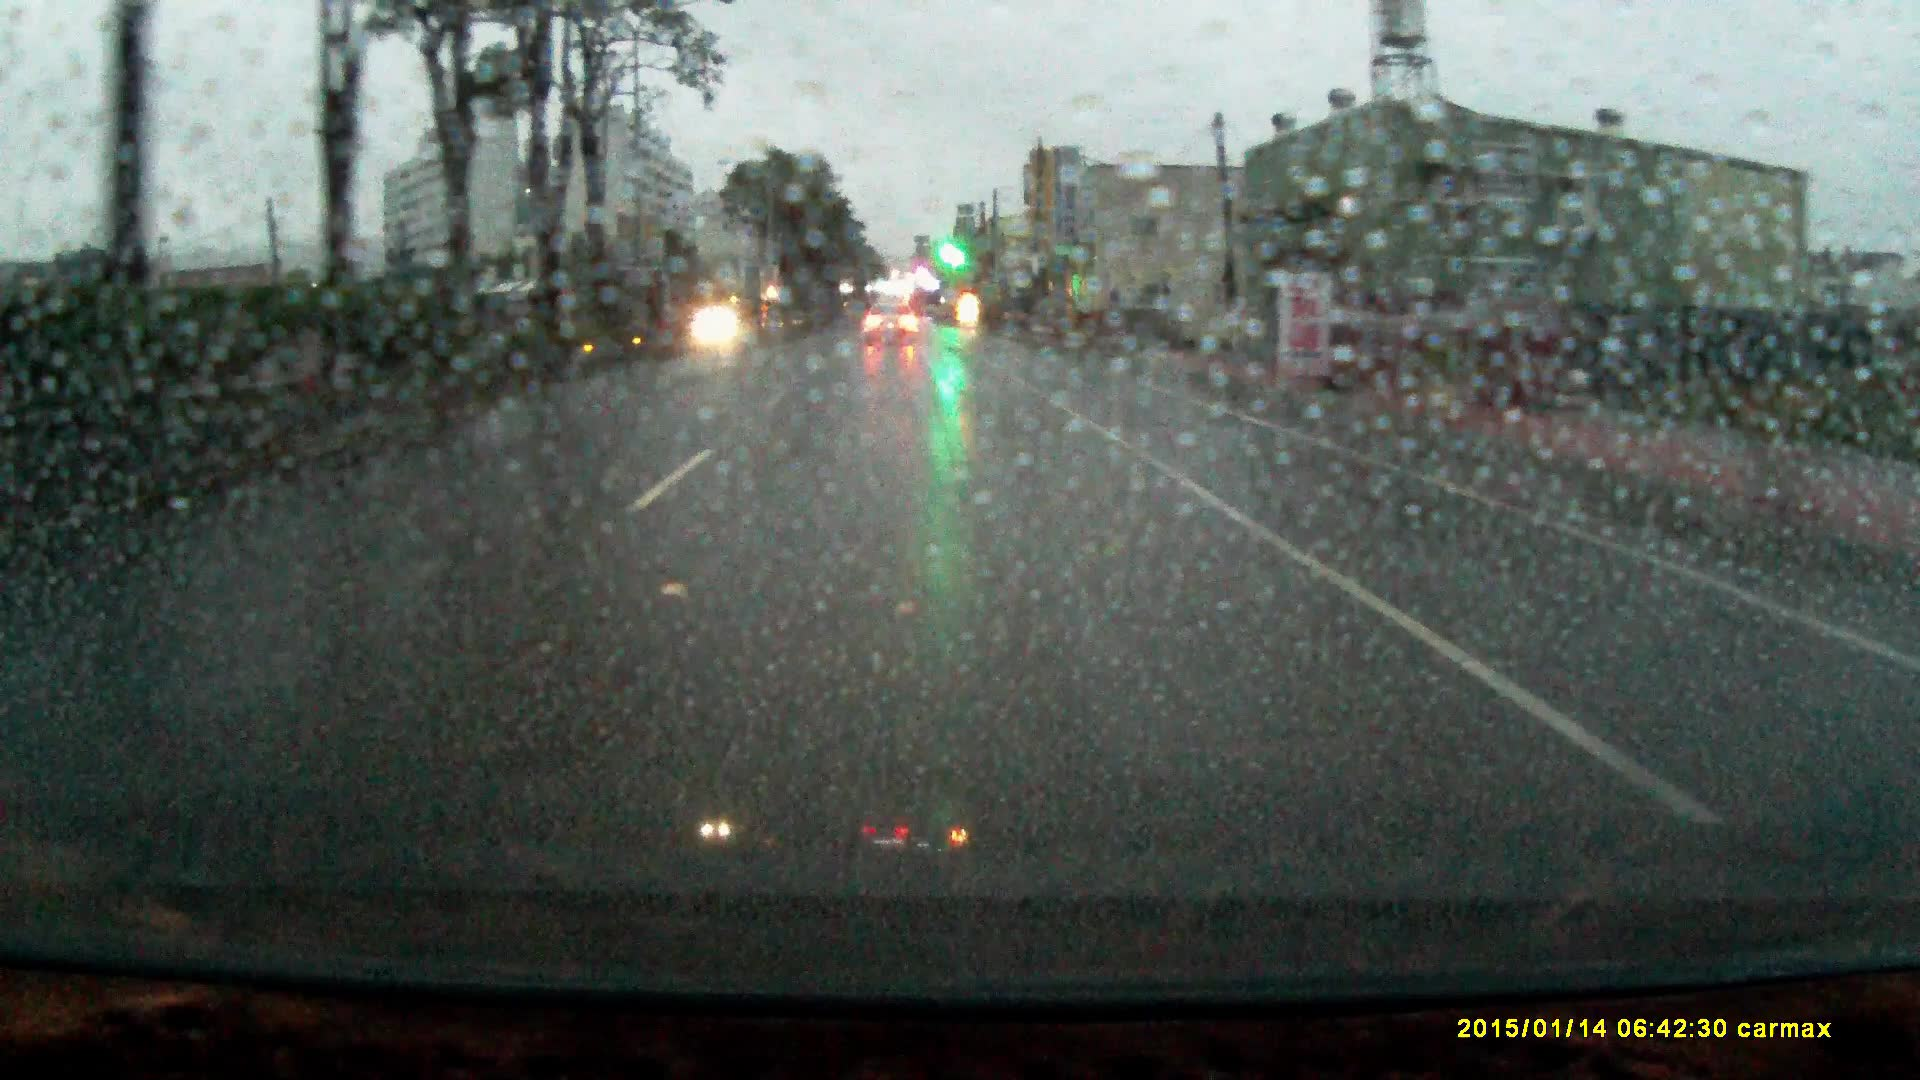vehicle: (864, 298, 918, 342)
